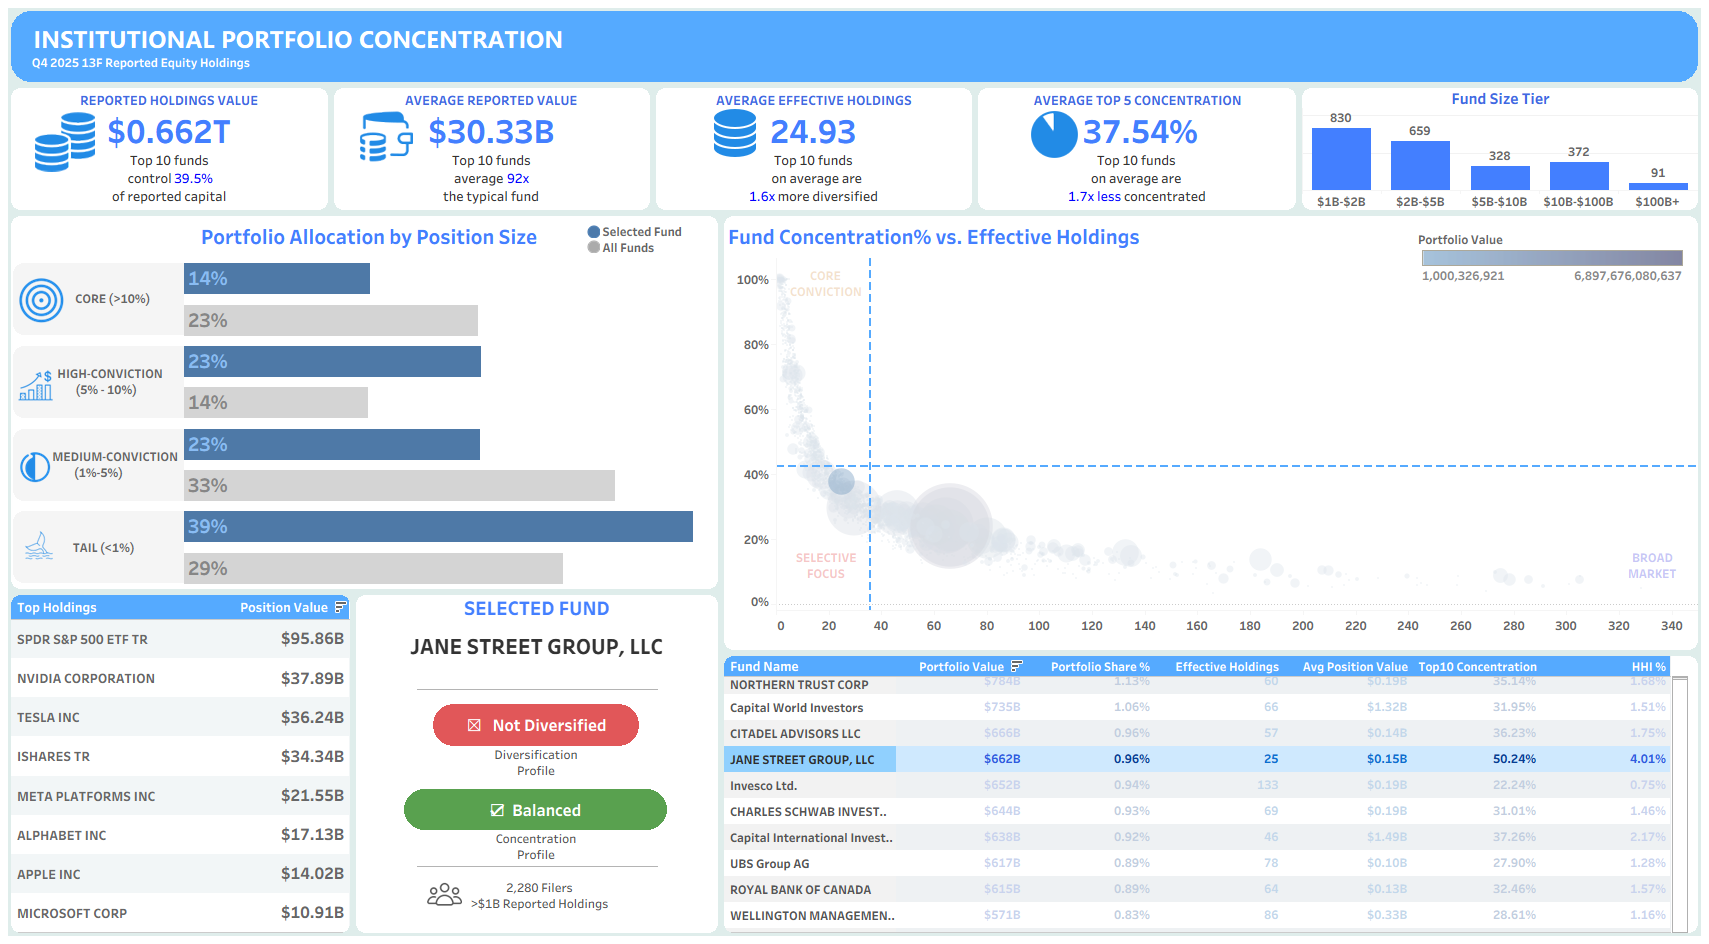

What the dashboard file says about the page in this screenshot:
{"tool":"tableau","page":{"name":"Dashboard 1","canvas":[1000,1000],"units":"permille","ordinal":0},"visuals":[{"type":"title","box":[4.7,8.5,990.6,81.5]},{"type":"worksheet","title":"Sheet 2","mark":"Automatic","box":[4.7,90,188.7,136]},{"type":"worksheet","title":"Sheet 3","mark":"Automatic","box":[193.4,90,188.5,136]},{"type":"worksheet","title":"Sheet 6","mark":"Automatic","box":[381.9,90,188.4,136]},{"type":"worksheet","title":"Sheet 7","mark":"Automatic","box":[570.3,90,189.7,136]},{"type":"worksheet","title":"Sheet 11","mark":"Bar","rows":["fund_name"],"cols":["Calculation_0336177946624000"],"box":[760,90,235.3,136]},{"type":"image","param":"C:/Users/Raav/Desktop/Work Stuff/PROJECT 2/Final/Institutional Portfolio Concent","box":[209.5,115.5,33.9,58.3]},{"type":"image","param":"C:/Users/Raav/Desktop/Work Stuff/PROJECT 2/Final/Institutional Portfolio Concent","box":[415.4,115.5,29.3,61.4]},{"type":"image","param":"C:/Users/Raav/Desktop/Work Stuff/PROJECT 2/Final/Institutional Portfolio Concent","box":[602.1,115.5,29.8,56.1]},{"type":"image","param":"C:/Users/Raav/Desktop/Work Stuff/PROJECT 2/Final/Institutional Portfolio Concent","box":[20.5,118.6,38,63.6]},{"type":"blank","box":[4.7,226,103,401.6]},{"type":"worksheet","title":"Sheet 8","mark":"Bar","rows":["position_bucket (bucket_summary_clean)"],"box":[107.7,226,314.4,401.6]},{"type":"worksheet","title":"Sheet 5","mark":"Circle","rows":["top5_concentration"],"cols":["effective_holdings"],"box":[422.1,226,573.2,465.3]},{"type":"text","box":[351.1,226.7,55.6,54]},{"type":"image","param":"C:/Users/Raav/Desktop/Work Stuff/PROJECT 2/Final/Institutional Portfolio Concent","box":[343.5,238.3,7.6,19.1]},{"type":"legend","title":"Sheet 5","param":"[federated.1q4xv8o17jksh01113fyi0gnvkeu].[sum:portfolio_value:qk]","box":[829.7,240.5,157.4,59.3]},{"type":"image","param":"C:/Users/Raav/Desktop/Work Stuff/PROJECT 2/Final/Institutional Portfolio Concent","box":[343.5,254.2,7.6,19.1]},{"type":"text","box":[5.9,278.6,101.8,76.3]},{"type":"image","param":"C:/Users/Raav/Desktop/Work Stuff/PROJECT 2/Final/Institutional Portfolio Concent","box":[8.8,290.2,31.1,56.1]},{"type":"text","box":[5.9,366.5,101.8,76.3]},{"type":"image","param":"C:/Users/Raav/Desktop/Work Stuff/PROJECT 2/Final/Institutional Portfolio Concent","box":[9.4,387.7,23.4,41.3]},{"type":"text","box":[5.9,454.4,101.8,76.3]},{"type":"image","param":"C:/Users/Raav/Desktop/Work Stuff/PROJECT 2/Final/Institutional Portfolio Concent","box":[10.6,476.7,20.5,36]},{"type":"text","box":[5.9,541.3,101.8,76.3]},{"type":"image","param":"C:/Users/Raav/Desktop/Work Stuff/PROJECT 2/Final/Institutional Portfolio Concent","box":[12.8,559.3,19.8,37.1]},{"type":"worksheet","title":"Sheet 9","mark":"Automatic","rows":["company"],"box":[4.7,627.6,201.9,363.9]},{"type":"worksheet","title":"Sheet 12","mark":"Automatic","box":[206.6,627.6,215.6,363.9]},{"type":"worksheet","title":"Sheet 10","mark":"Automatic","rows":["fund_name"],"box":[422.1,691.3,573.2,300.2]},{"type":"blank","box":[244,729.9,141,1.1]},{"type":"worksheet","title":"Sheet 13","mark":"Square","box":[253.4,745.8,120.5,44.5]},{"type":"text","box":[271.5,790.2,84.3,36]},{"type":"worksheet","title":"Sheet 14","mark":"Pie","box":[236.4,835.8,153.9,43.4]},{"type":"text","box":[271.5,877.1,84.3,39.2]},{"type":"blank","box":[244,917.4,141,1.1]},{"type":"text","box":[270.9,919.5,89.5,59.3]},{"type":"image","param":"C:/Users/Raav/Desktop/Work Stuff/PROJECT 2/Final/Institutional Portfolio Concent","box":[249.8,929,20.5,38.1]}]}

Visuals, with their boxes on the dashboard's canvas, which has no fixed pixel size, in thousandths of its width and height (x1, y1, x2, y2). These are canvas units, not pixel positions in the 1709x944 screenshot, which may show the page scaled, cropped or inside an application window:
title: 5:8:995:90
"Sheet 2" worksheet: 5:90:193:226
"Sheet 3" worksheet: 193:90:382:226
"Sheet 6" worksheet: 382:90:570:226
"Sheet 7" worksheet: 570:90:760:226
"Sheet 11" worksheet (Bar marks): 760:90:995:226
image: 210:116:243:174
image: 415:116:445:177
image: 602:116:632:172
image: 20:119:58:182
blank: 5:226:108:628
"Sheet 8" worksheet (Bar marks): 108:226:422:628
"Sheet 5" worksheet (Circle marks): 422:226:995:691
text: 351:227:407:281
image: 344:238:351:257
"Sheet 5" legend: 830:240:987:300
image: 344:254:351:273
text: 6:279:108:355
image: 9:290:40:346
text: 6:366:108:443
image: 9:388:33:429
text: 6:454:108:531
image: 11:477:31:513
text: 6:541:108:618
image: 13:559:33:596
"Sheet 9" worksheet: 5:628:207:992
"Sheet 12" worksheet: 207:628:422:992
"Sheet 10" worksheet: 422:691:995:992
blank: 244:730:385:731
"Sheet 13" worksheet (Square marks): 253:746:374:790
text: 272:790:356:826
"Sheet 14" worksheet (Pie marks): 236:836:390:879
text: 272:877:356:916
blank: 244:917:385:918
text: 271:920:360:979
image: 250:929:270:967
